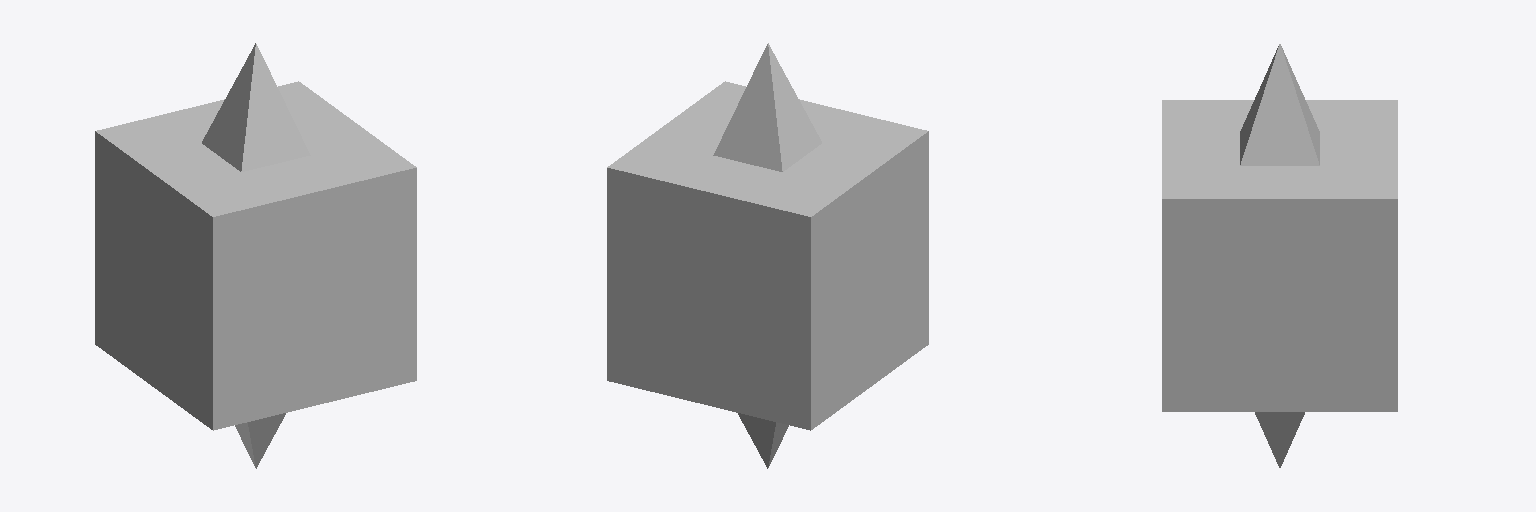
File: teeth.obj
3 renders of one model, left to right at view 1: azimuth 30°, elevation 25°; view 2: azimuth 150°, elevation 25°; view 3: azimuth 270°, elevation 25°, orthographic.
Bounding box in the file's own units: 2 × 4 × 2.